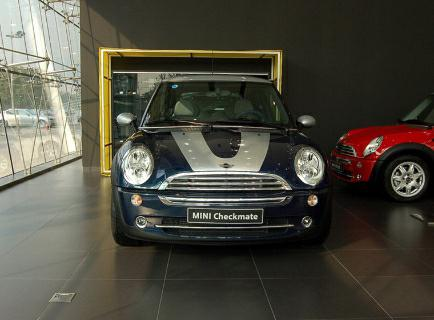MINI: (108, 69, 338, 248)
